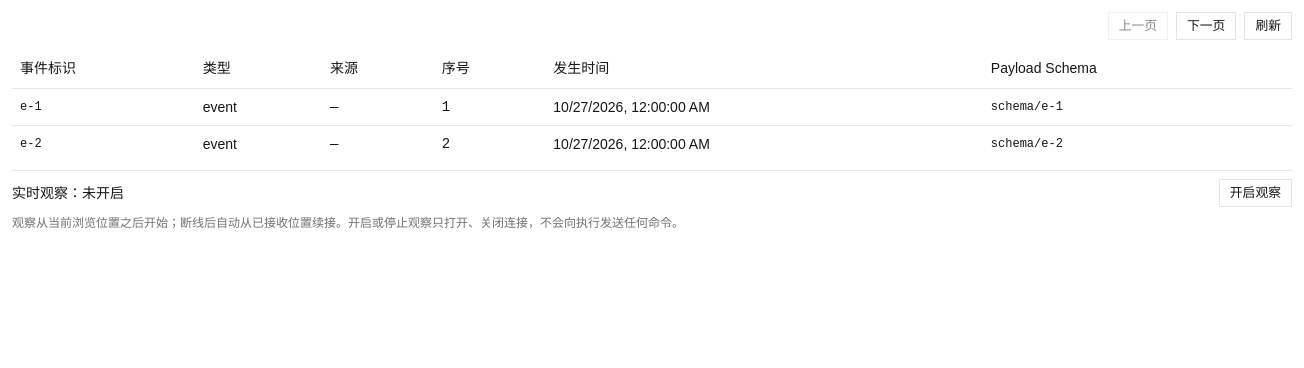
Test: RunEventsPanel live observation › does not replenish the retry budget when a connection only replays old data
Expected: the text "e-1" is shown, x1=12 y1=88 x2=195 y2=125
What coordinates should you click on to do the following:
click the button with test id "live-start"
I would click on:
 (1255, 192)
Its box is x1=1219 y1=178 x2=1292 y2=206.
Wait 30000 ms
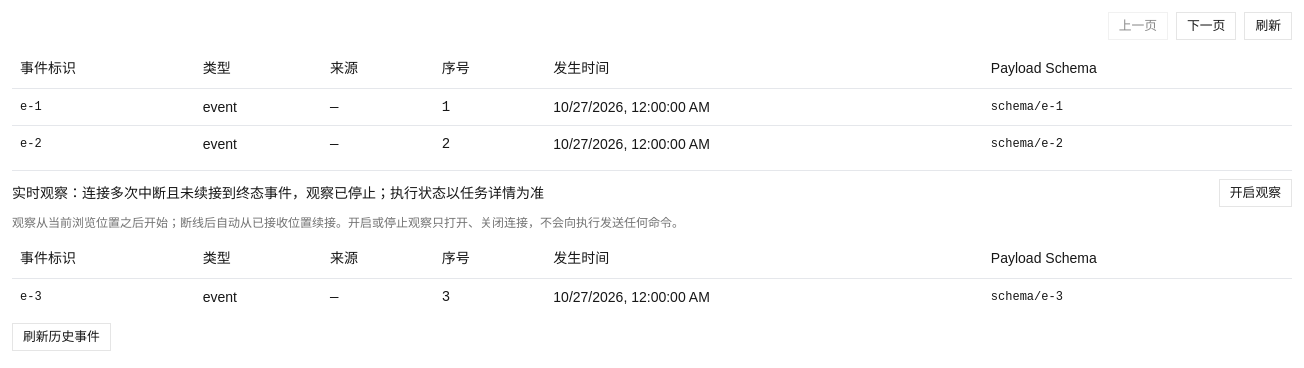
Expected: the text with test id "live-status" shows "观察已停止", x1=82 y1=184 x2=544 y2=200
